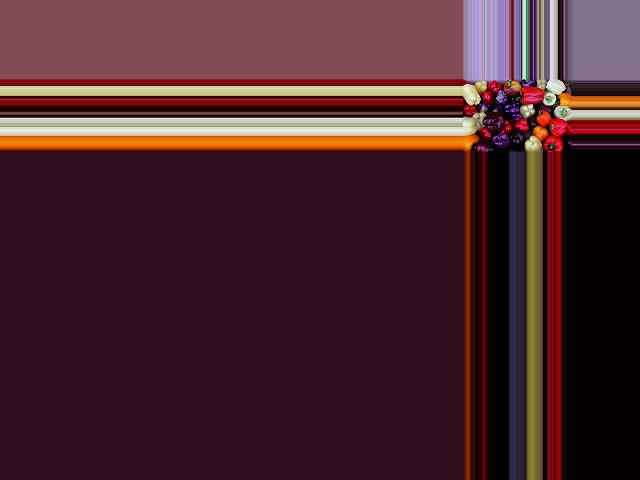bell_pepper: (551, 107, 571, 120)
